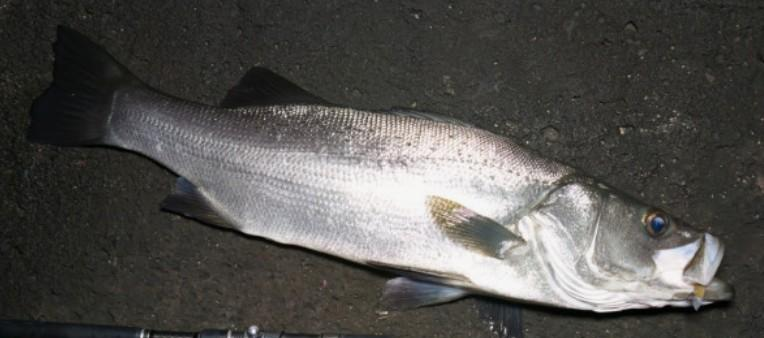fish: (27, 26, 732, 337)
